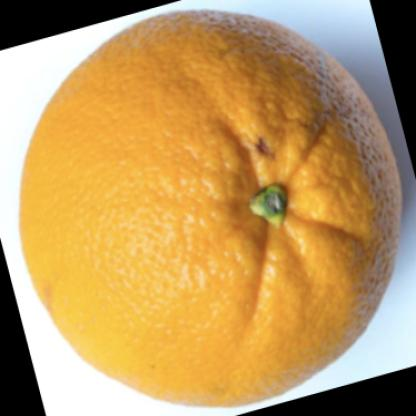fresh: (23, 12, 400, 406)
